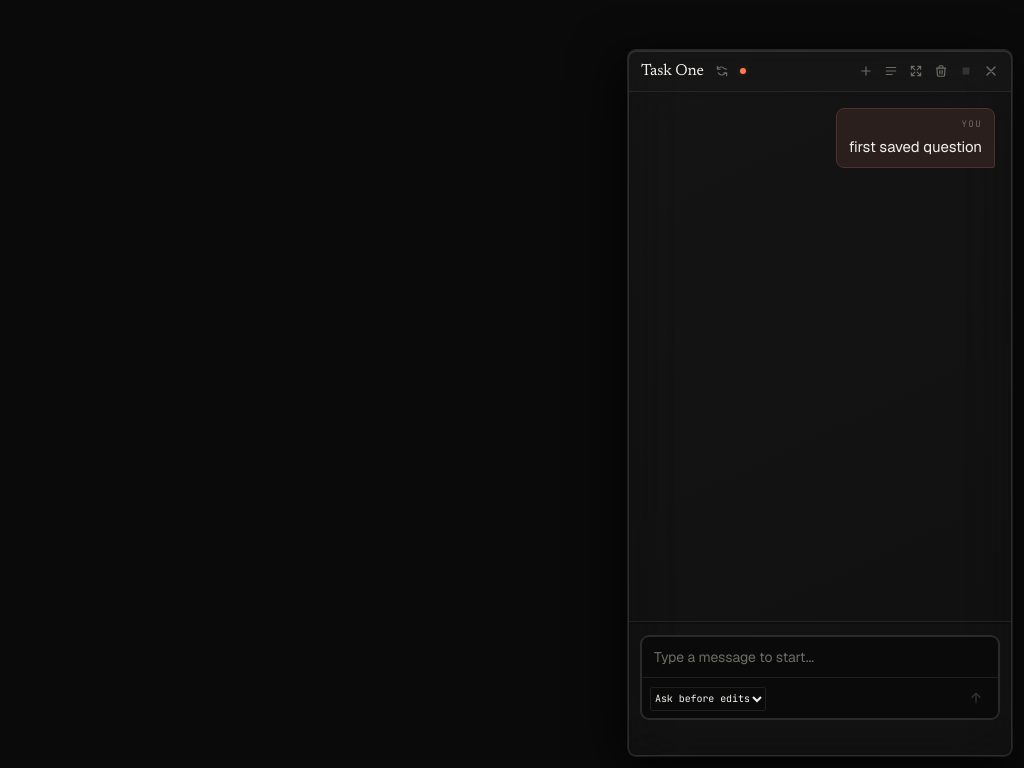
Test: ChatWindowManager › shows a mini thread selector while maximized and keeps the main chat visible
Step 1. Press \
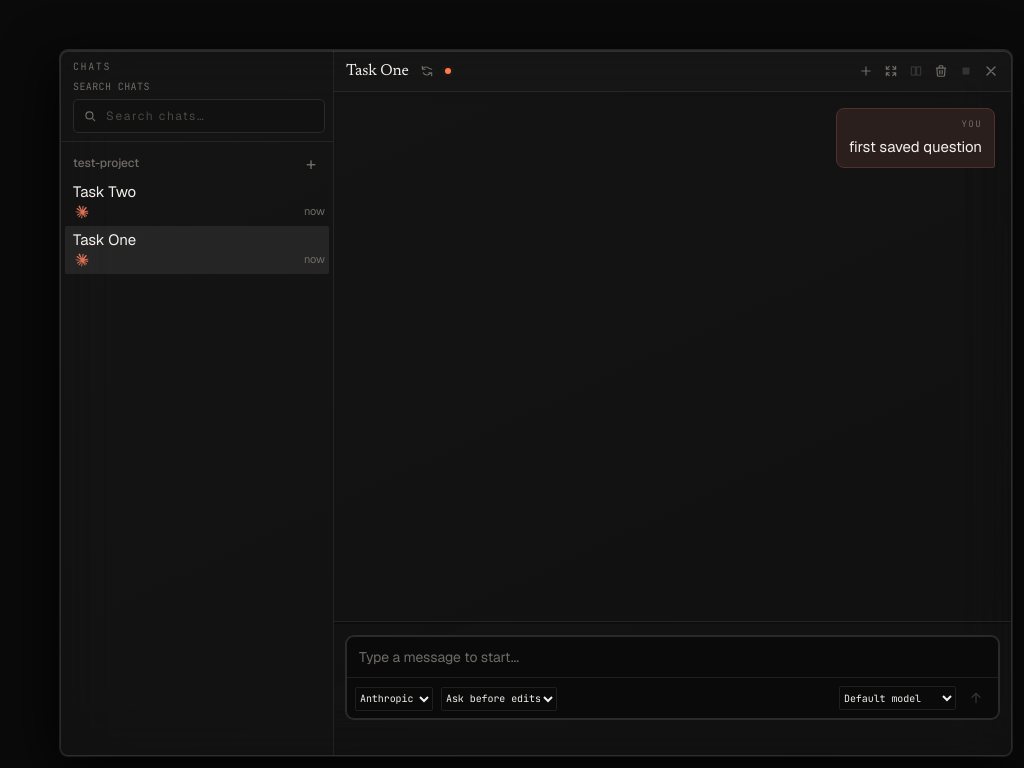
Now the element with test id "local-chat-mini-panel" is shown, box [61,51,333,755]
Now the button with aria-label "Load local chat Task One into active pane" is shown, box [73,230,325,250]
Now the text "Task Two" is shown, box [73,182,136,201]
Step 2. Click the button with aria-label "Load local chat Task Two into active pane" → (199, 192), box [73,182,325,202]
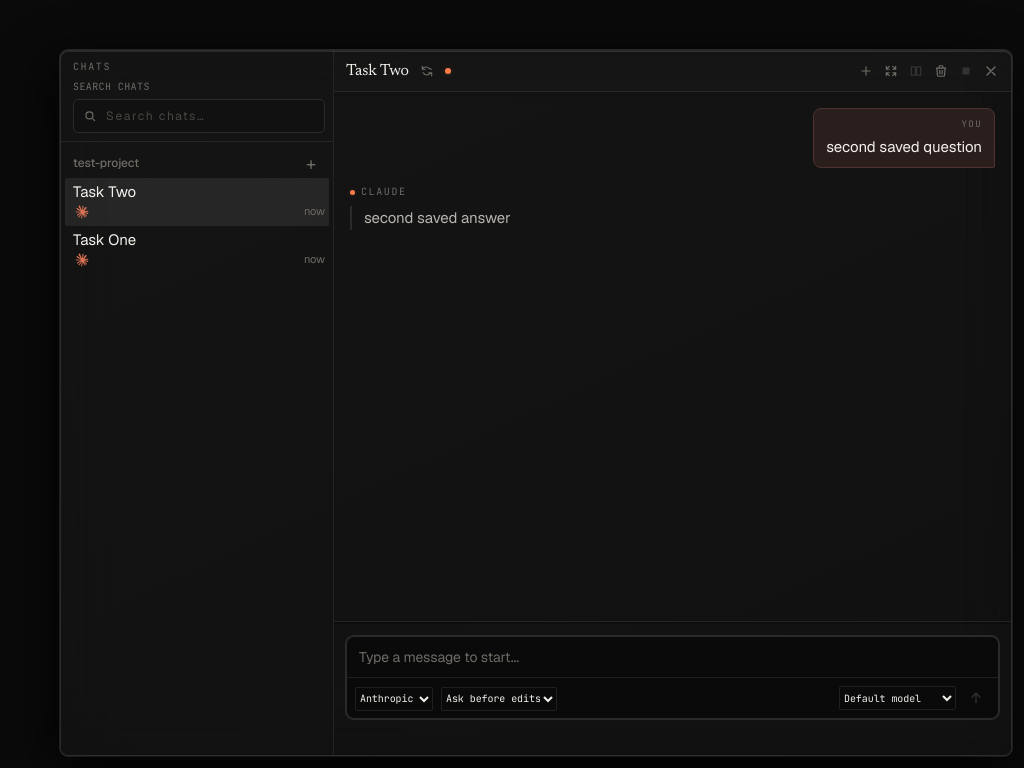
Now the element with test id "local-chat-mini-panel" is shown, box [61,51,333,755]
Now the text "second saved answer" is shown, box [364,208,511,227]
